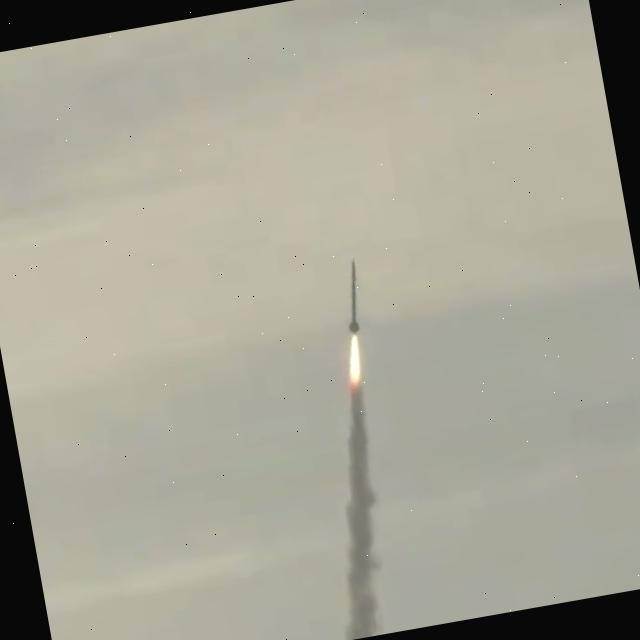smoke_trail_with_rocket: (343, 260, 378, 640)
